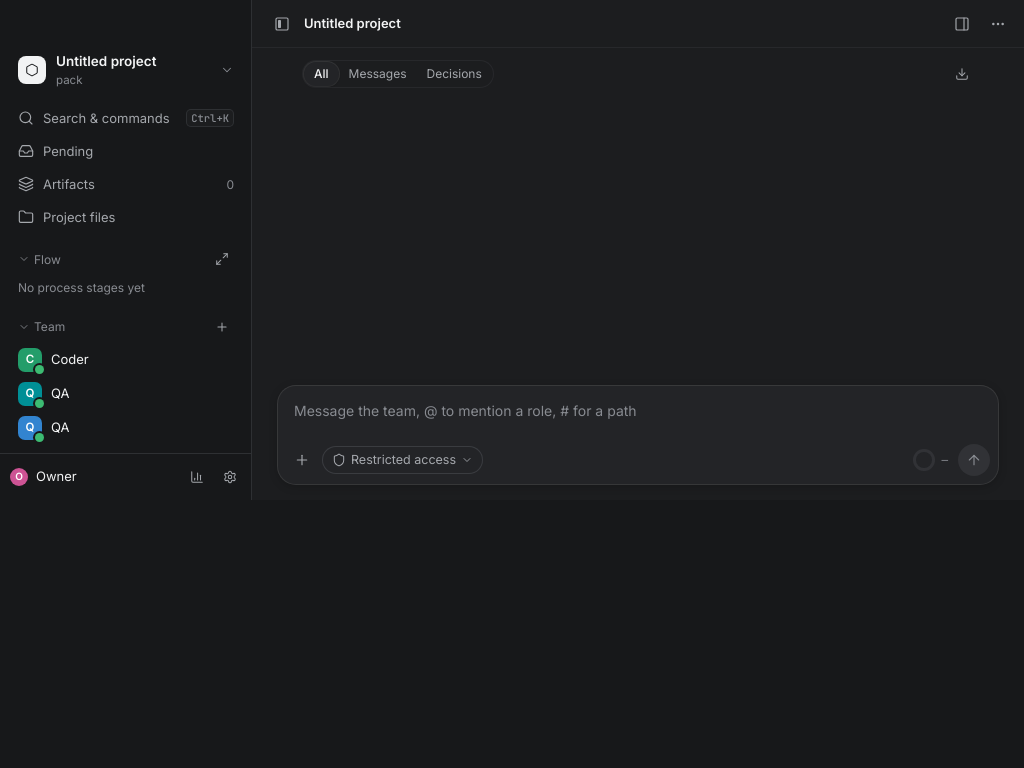
it: 成员行右键菜单（A16b 第一批） › 绑定后行右侧显示键位；键位作用于焦点成员行
Press the mouse on the button "C Coder" at x=126, y=360, box [10, 343, 242, 377]
Right-click the button "C Coder" at x=126, y=360, box [10, 343, 242, 377]
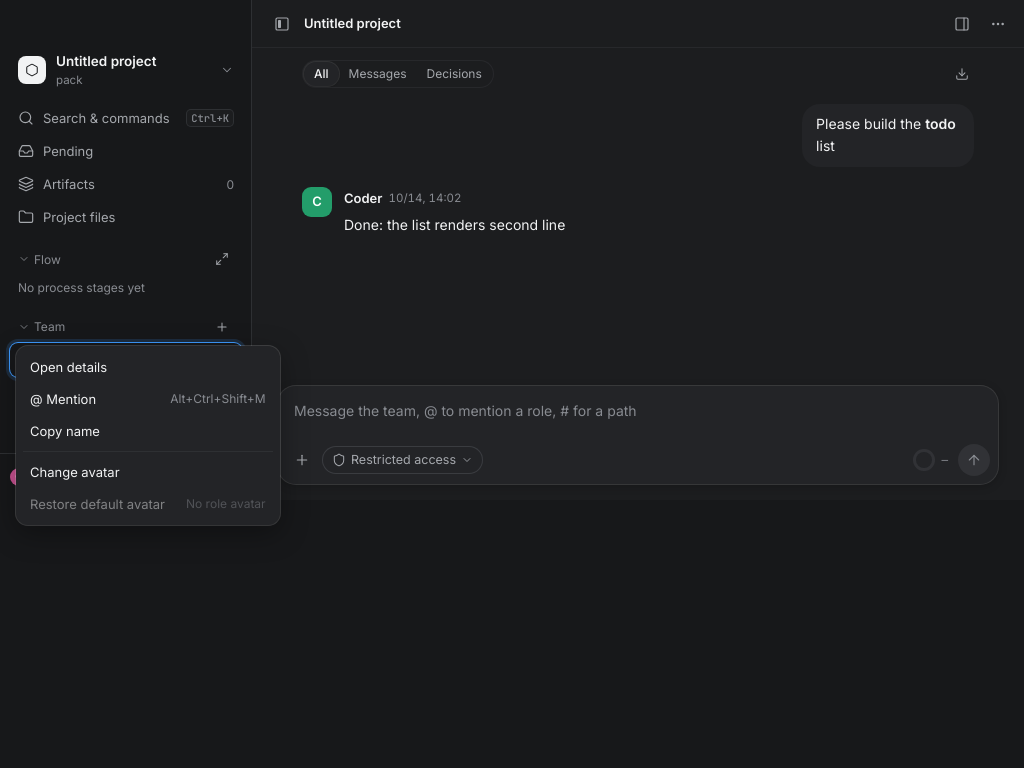
Press Escape in the menu, box [16, 346, 280, 525]
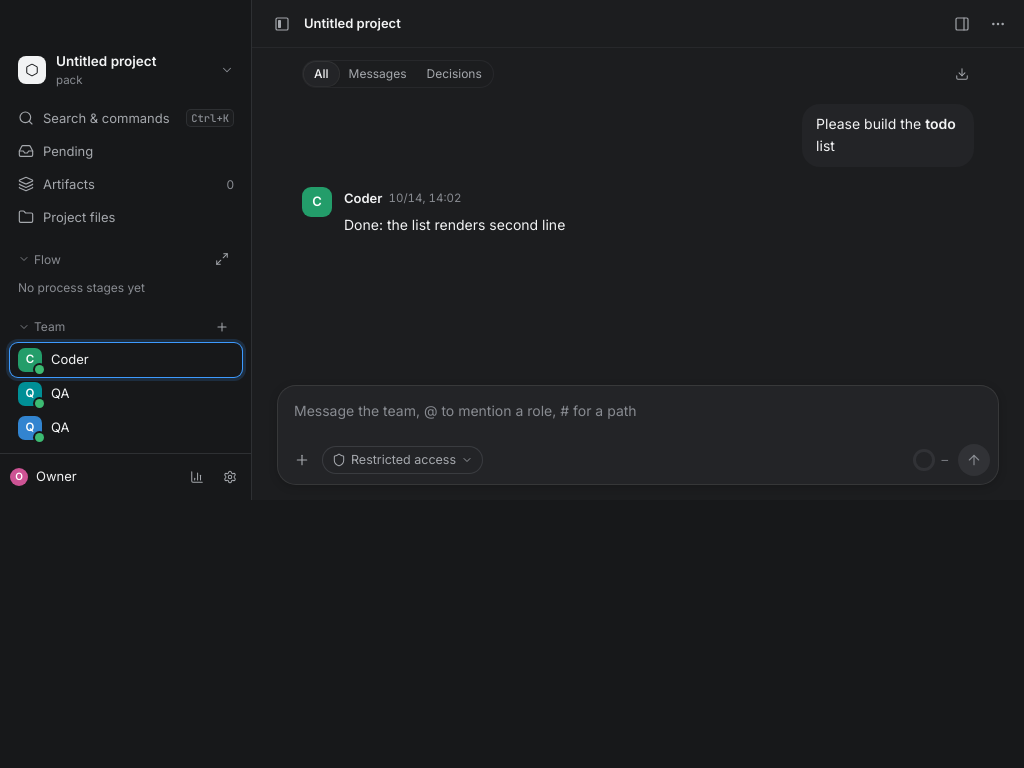
Press m in the button "C Coder", box [10, 343, 242, 377]
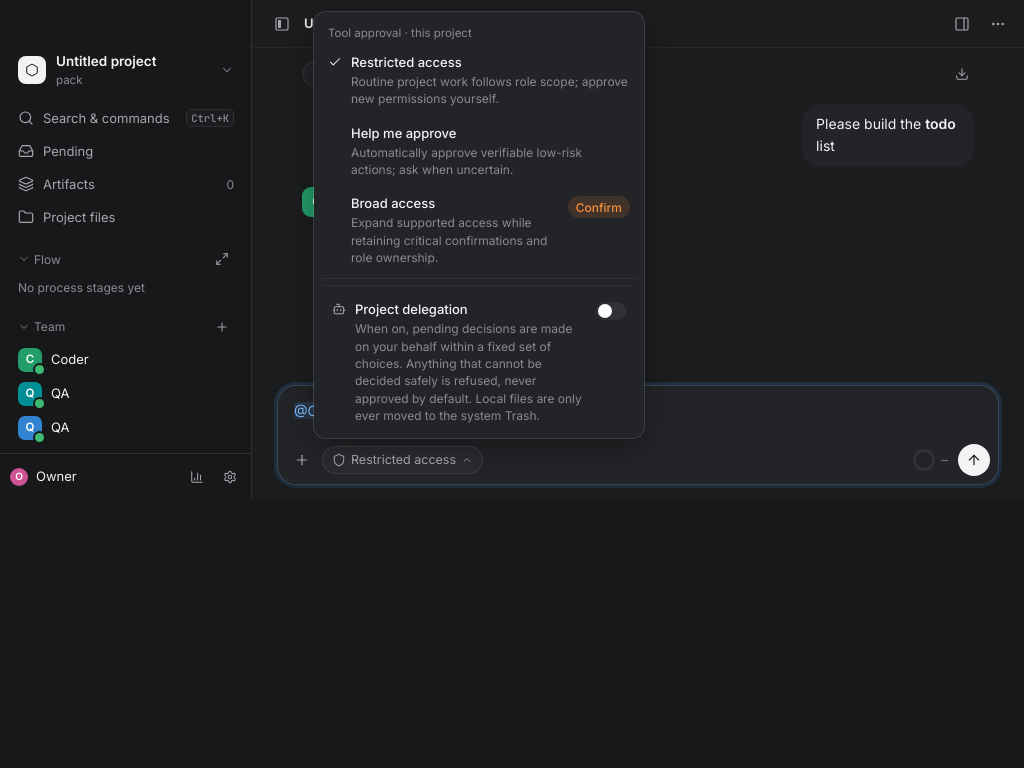
Expected: the text box with id "composer-input" holds "@Coder ", [278, 386, 998, 438]
